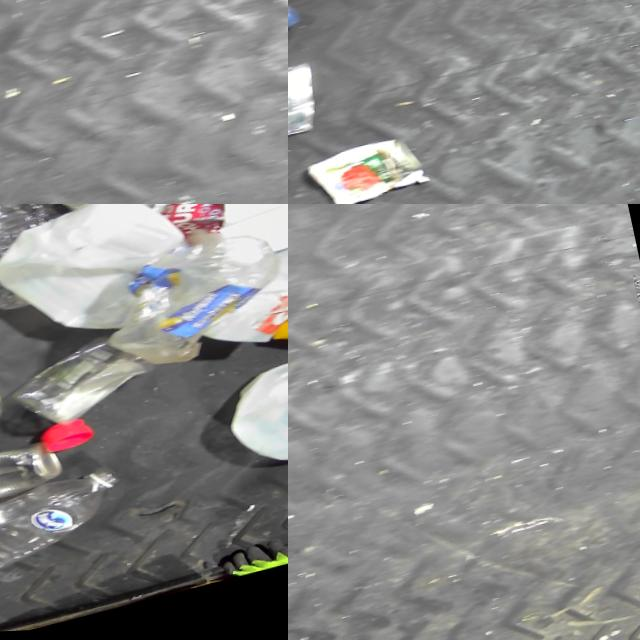can: (5, 337, 148, 439), (290, 128, 426, 204), (0, 430, 74, 520), (288, 53, 335, 160)
milk_jug: (0, 204, 206, 367), (216, 354, 288, 489)
plastic_bottle: (0, 466, 135, 592), (0, 204, 68, 324)
